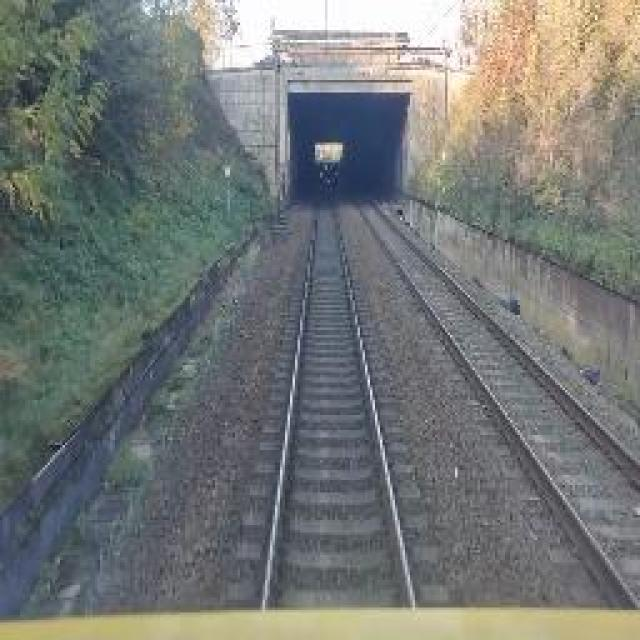rail: (211, 181, 456, 613)
